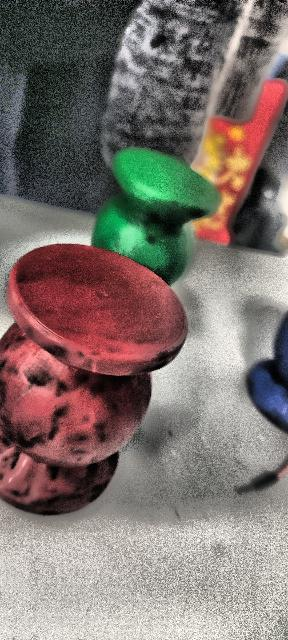blue: (247, 313, 287, 432)
green: (91, 146, 221, 291)
red: (0, 243, 191, 520)
